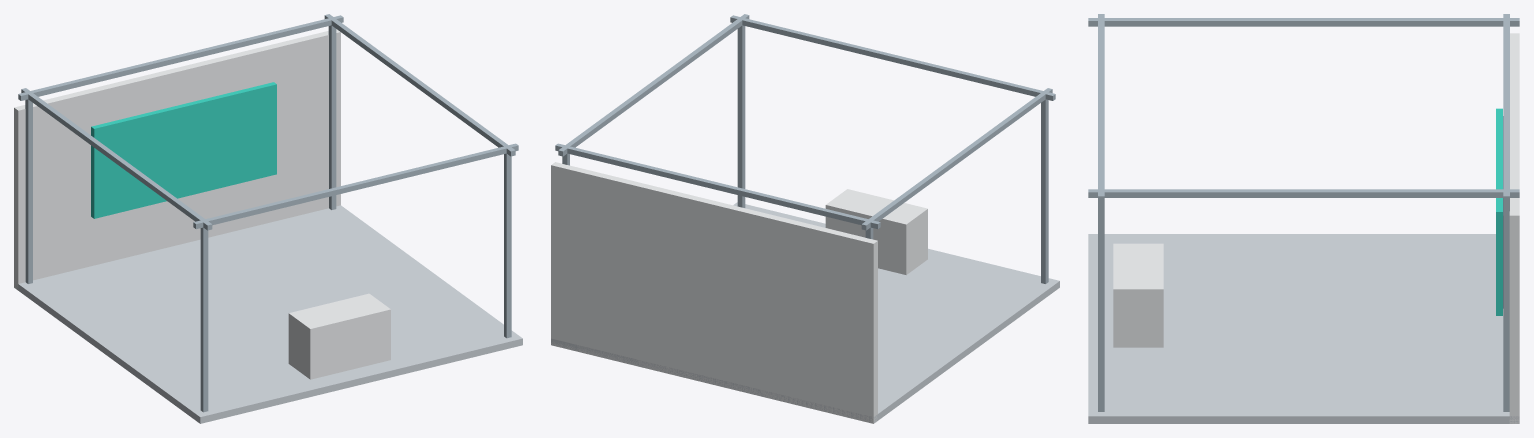
3 views of the same model, side by side, from view 1: azimuth 30°, elevation 25°; view 2: azimuth 150°, elevation 25°; view 3: azimuth 270°, elevation 25° (orthographic). The views are drawn at different scales.
Visible parts, largest first — view 1: Exhibition Booth Concept; view 2: Exhibition Booth Concept; view 3: Exhibition Booth Concept.
Part boxes in pixels (bbox=[...]): Exhibition Booth Concept: bbox=[14, 14, 522, 423]; Exhibition Booth Concept: bbox=[551, 14, 1059, 423]; Exhibition Booth Concept: bbox=[1088, 14, 1519, 423].
Size of the model in its own units: 6 by 3.49 by 6.
